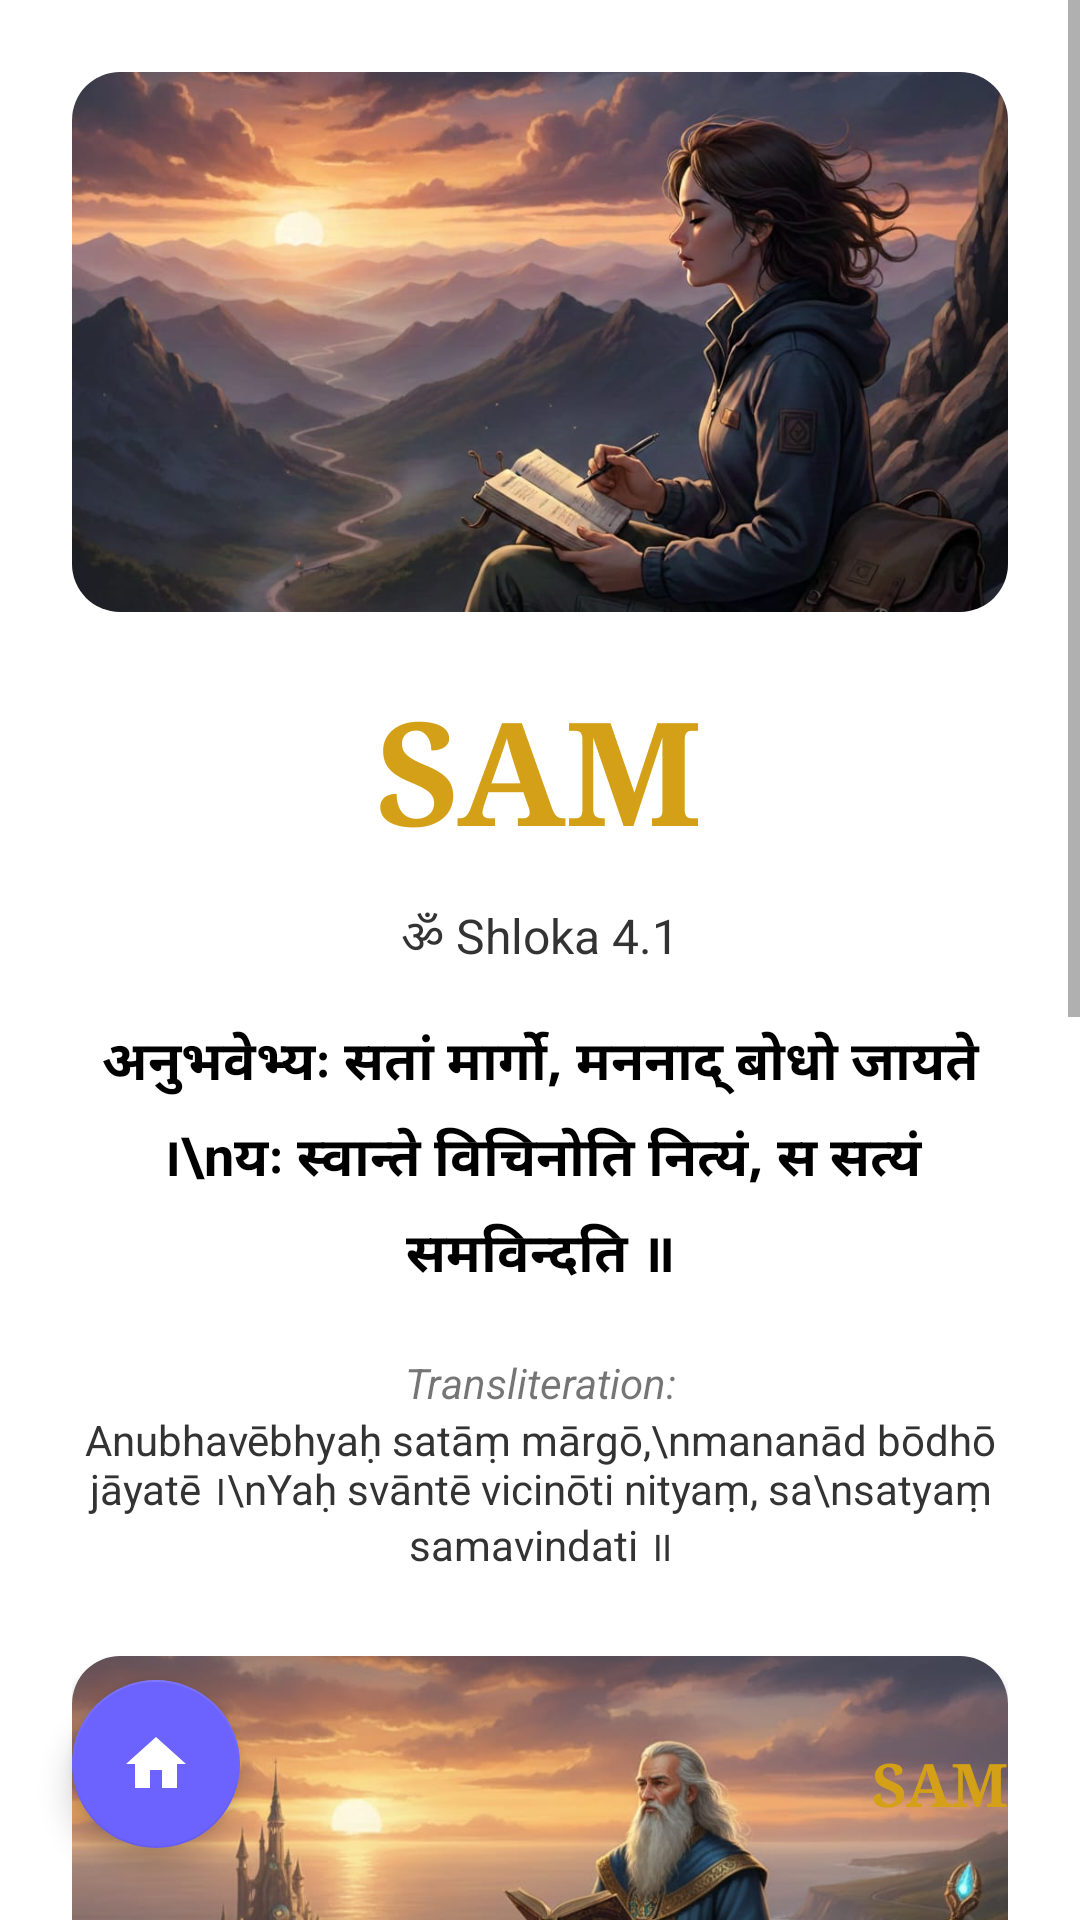

Point at icon controls on the screen. Image size 1080px x 1920px, points as (x,y).
home: (156,1764)
